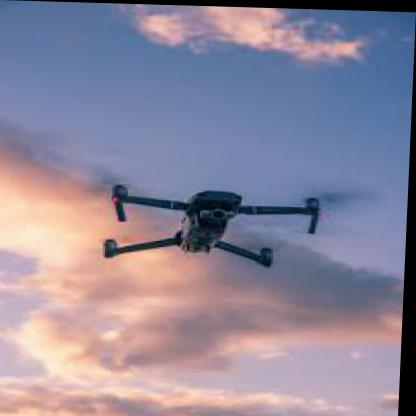UAS: (107, 183, 326, 266)
